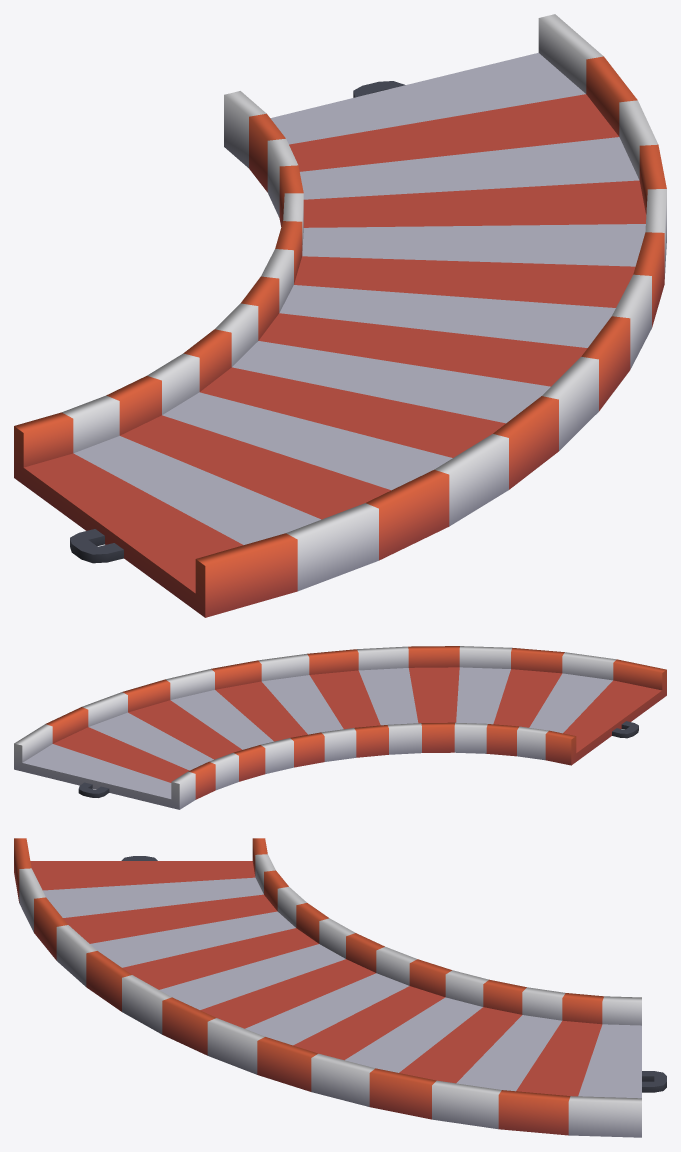
File: track-striped-wide-corner-large.glb
3 renders of one model, top to bottom at view 1: azimuth 30°, elevation 25°; view 2: azimuth 150°, elevation 25°; view 3: azimuth 270°, elevation 25°, orthographic. The views are drawn at different scales.
Parts seen in each view (by area): view 1: track-striped-wide-corner-large; view 2: track-striped-wide-corner-large; view 3: track-striped-wide-corner-large.
Part boxes in pixels (x1=…): track-striped-wide-corner-large: x1=14, y1=14, x2=666, y2=617; track-striped-wide-corner-large: x1=14, y1=646, x2=666, y2=809; track-striped-wide-corner-large: x1=14, y1=838, x2=666, y2=1137.
Bounding box in the file's own units: 5.2 × 0.3 × 5.2.
